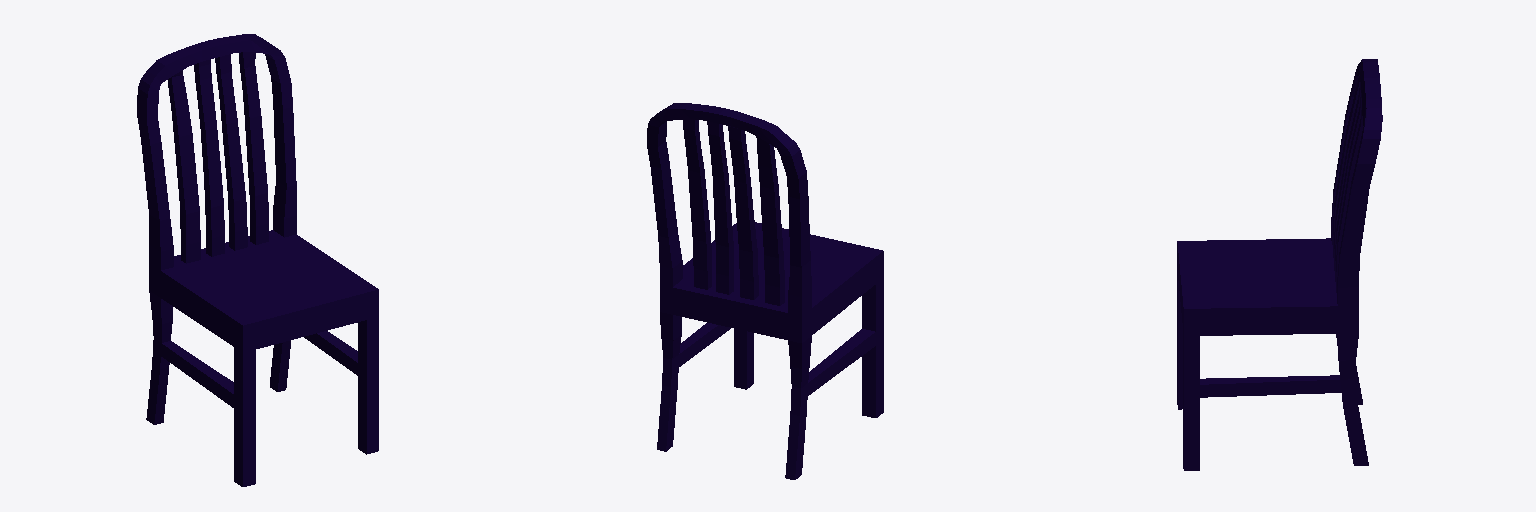
The model's file is chair.obj.
3 views of the same model, side by side, from view 1: azimuth 30°, elevation 25°; view 2: azimuth 150°, elevation 25°; view 3: azimuth 270°, elevation 25° (orthographic).
Parts seen in each view (by area): view 1: CHAIR_Cube.000; view 2: CHAIR_Cube.000; view 3: CHAIR_Cube.000.
Part boxes in pixels (bbox=[...]): CHAIR_Cube.000: bbox=[137, 34, 378, 486]; CHAIR_Cube.000: bbox=[647, 103, 883, 479]; CHAIR_Cube.000: bbox=[1177, 59, 1382, 470].
Size of the model in its own units: 0.619 by 1.41 by 0.7353.